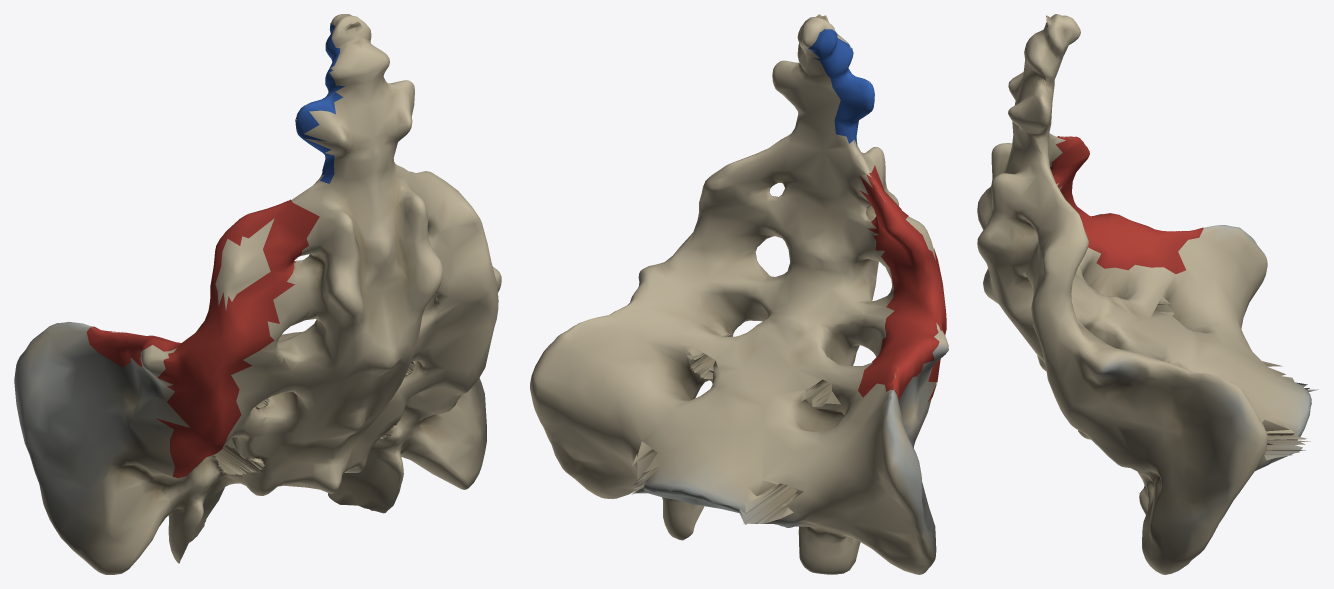
File: sacrum.glb
3 views of the same model, side by side, from view 1: azimuth 30°, elevation 25°; view 2: azimuth 150°, elevation 25°; view 3: azimuth 270°, elevation 25° (orthographic). The views are drawn at different scales.
Parts seen in each view (by area): view 1: FJ3393, sacrum__crista-dorsalis, origo__crista-dorsalis__FJ1418, sacrum__hiatus-coccyx, sacrum__facies-pelvina-foramina, origo__facies-pelvina-foramina__FJ1428, insertio__hiatus-coccyx__FJ2547; view 2: FJ3393, sacrum__facies-pelvina-foramina, sacrum__promontorium-basis, origo__facies-pelvina-foramina__FJ1428, origo__crista-dorsalis__FJ1418, sacrum__crista-dorsalis, insertio__hiatus-coccyx__FJ2547; view 3: FJ3393, sacrum__facies-pelvina-foramina, sacrum__crista-dorsalis, origo__facies-pelvina-foramina__FJ1428, sacrum__hiatus-coccyx, origo__crista-dorsalis__FJ1418.
Part boxes in pixels (x1,y1,x2,y2): FJ3393: [16, 14, 501, 574]; sacrum__crista-dorsalis: [133, 215, 493, 466]; origo__crista-dorsalis__FJ1418: [156, 199, 319, 478]; sacrum__hiatus-coccyx: [296, 14, 414, 178]; sacrum__facies-pelvina-foramina: [14, 322, 313, 417]; origo__facies-pelvina-foramina__FJ1428: [86, 284, 215, 367]; insertio__hiatus-coccyx__FJ2547: [295, 23, 344, 183]; FJ3393: [530, 21, 936, 574]; sacrum__facies-pelvina-foramina: [693, 283, 946, 499]; sacrum__promontorium-basis: [636, 483, 933, 574]; origo__facies-pelvina-foramina__FJ1428: [858, 249, 939, 401]; origo__crista-dorsalis__FJ1418: [860, 165, 946, 402]; sacrum__crista-dorsalis: [752, 155, 948, 439]; insertio__hiatus-coccyx__FJ2547: [808, 29, 874, 146]; FJ3393: [991, 16, 1318, 574]; sacrum__facies-pelvina-foramina: [1075, 225, 1267, 373]; sacrum__crista-dorsalis: [977, 153, 1137, 371]; origo__facies-pelvina-foramina__FJ1428: [1065, 182, 1203, 273]; sacrum__hiatus-coccyx: [1008, 14, 1067, 153]; origo__crista-dorsalis__FJ1418: [1050, 136, 1089, 209].
Size of the model in its own units: 118 by 144 by 90.77.
